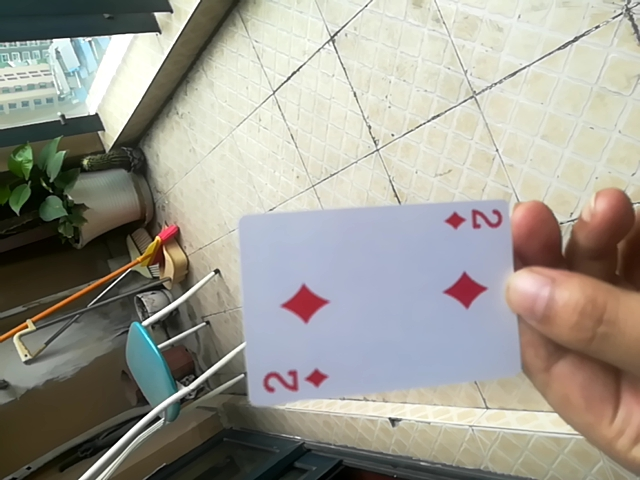fk 2: (234, 201, 521, 407)
